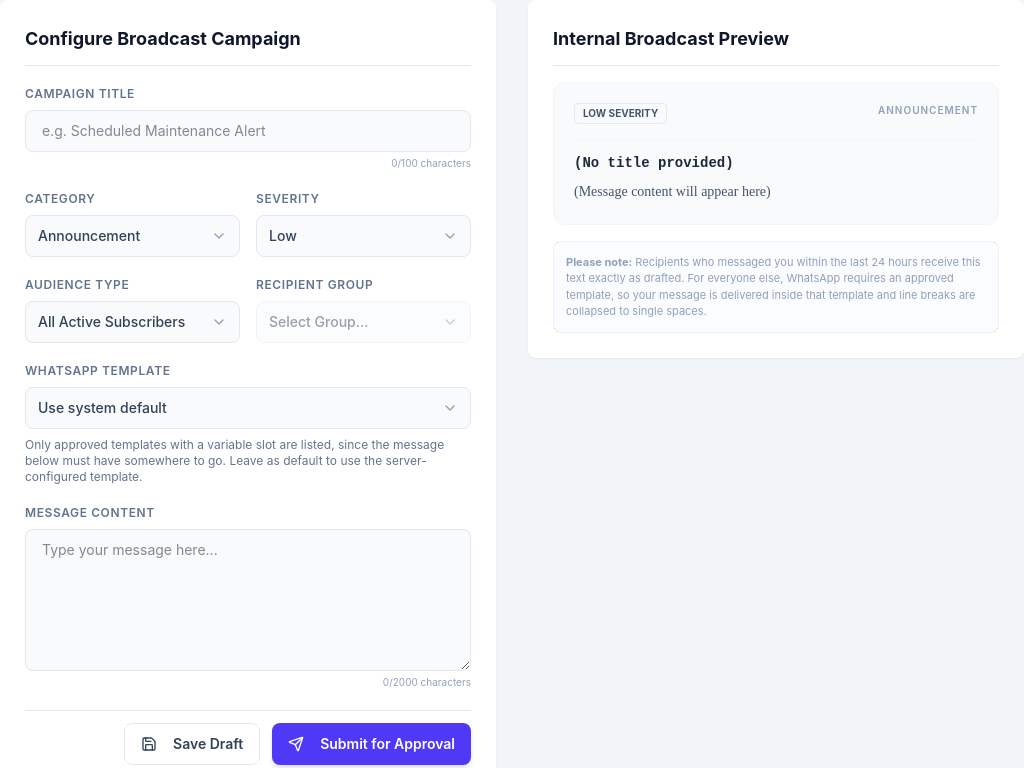
Test: BroadcastForm validation › blocks submission when the title is empty
Type "body only" into the text box with placeholder "Type your message here..." at (248, 600), box [25,529,471,671]
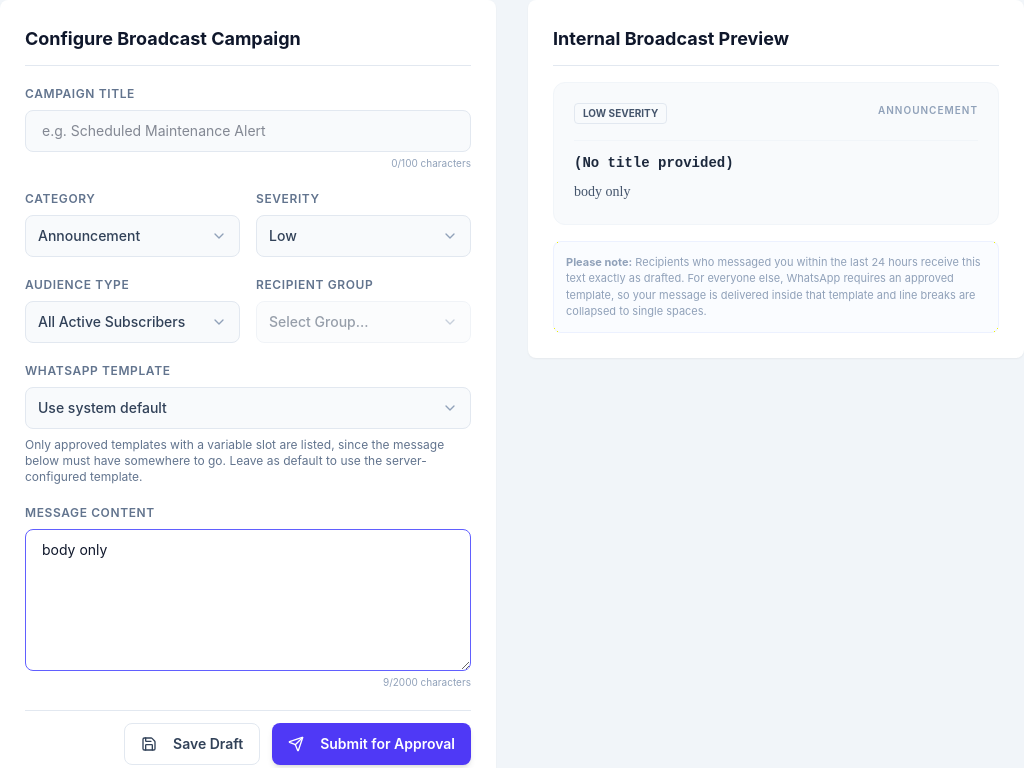
Click the button "Submit for Approval" at (372, 744), box [272,723,471,765]
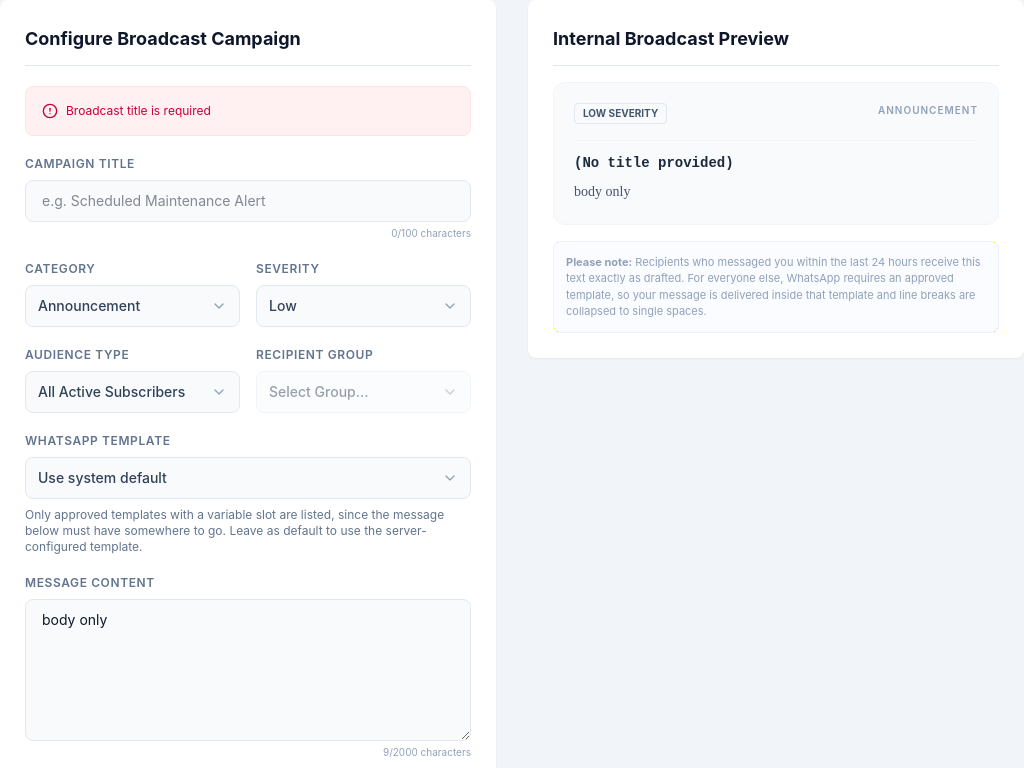
Now the text "Broadcast title is required" is shown, box [66,103,211,119]
